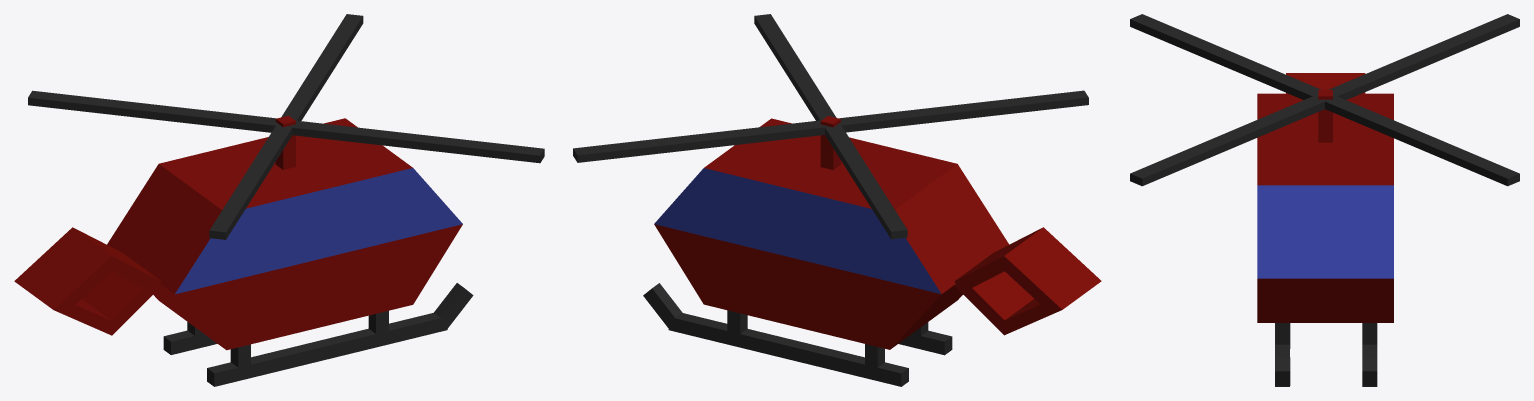
The model's file is Heli.fbx.
The picture shows the model from 3 angles, left to right: view 1: azimuth 30°, elevation 25°; view 2: azimuth 150°, elevation 25°; view 3: azimuth 270°, elevation 25°; orthographic projection.
Visible parts, largest first — view 1: Heli, Fenster2, Cube.001, Kufen, Rotor; view 2: Heli, Fenster2, Rotor, Kufen, Cube.001; view 3: Heli, Fenster, Rotor, Cube.001, Kufen.
Boxes of the visible parts, x1,y1,x2,y2 form: Heli: (14, 115, 462, 350); Fenster2: (175, 168, 462, 294); Cube.001: (28, 90, 544, 163); Kufen: (163, 283, 473, 386); Rotor: (209, 14, 363, 239); Heli: (654, 116, 1101, 349); Fenster2: (654, 168, 941, 294); Rotor: (573, 90, 1088, 162); Kufen: (643, 283, 952, 386); Cube.001: (754, 14, 907, 239); Heli: (1257, 73, 1393, 322); Fenster: (1257, 185, 1393, 278); Rotor: (1130, 14, 1519, 186); Cube.001: (1130, 14, 1519, 186); Kufen: (1275, 323, 1377, 386).
Size of the model in its own units: 139 by 71.24 by 111.
